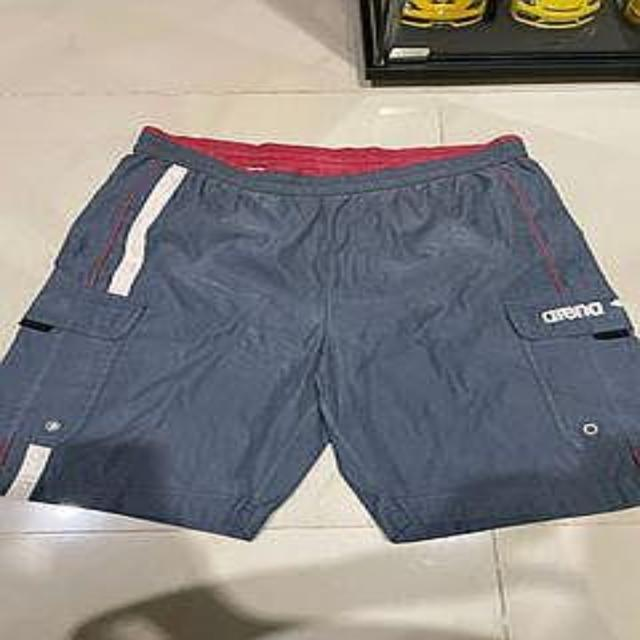SHORT: (7, 119, 640, 553)
